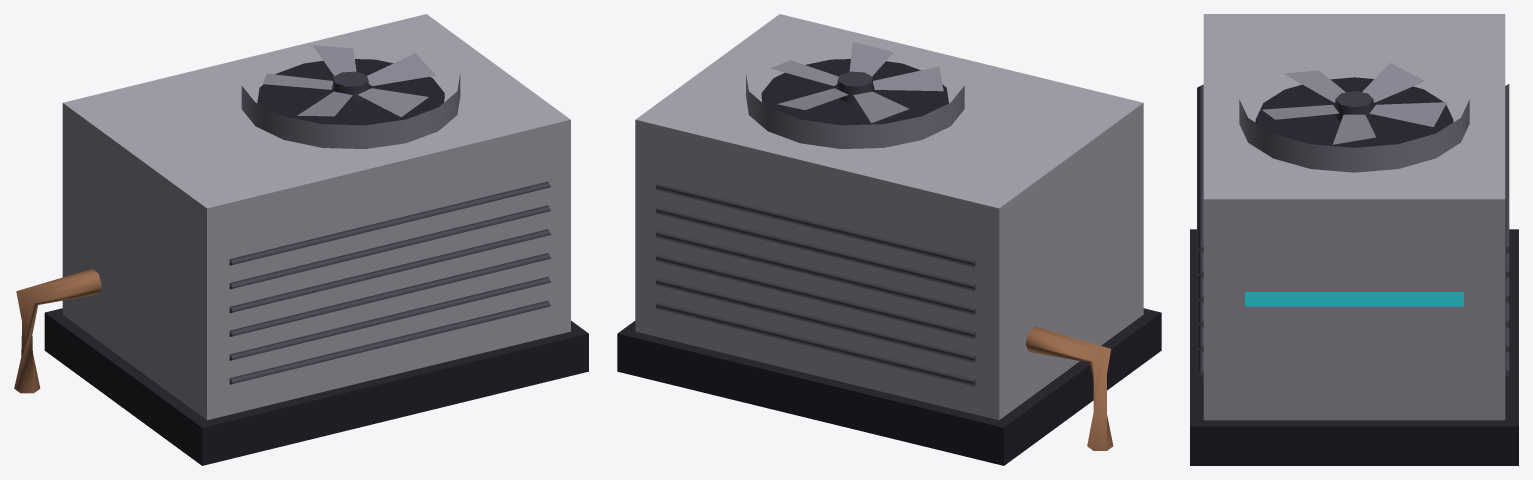
The model's file is ac_unit.glb.
The picture shows the model from 3 angles, left to right: view 1: azimuth 30°, elevation 25°; view 2: azimuth 150°, elevation 25°; view 3: azimuth 270°, elevation 25°; orthographic projection. The views are drawn at different scales.
Visible parts, largest first — view 1: Unit, Fan; view 2: Unit, Fan; view 3: Unit, Fan, Neon_2ef2ff.
Boxes of the visible parts, x1=… form: Unit: x1=14, y1=14, x2=588, y2=465; Fan: x1=262, y1=45, x2=435, y2=117; Unit: x1=617, y1=14, x2=1161, y2=465; Fan: x1=770, y1=41, x2=943, y2=123; Unit: x1=1190, y1=14, x2=1518, y2=465; Fan: x1=1262, y1=63, x2=1446, y2=144; Neon_2ef2ff: x1=1245, y1=292, x2=1463, y2=306.
Bounding box in the file's own units: 1.99 × 1.15 × 1.2.
